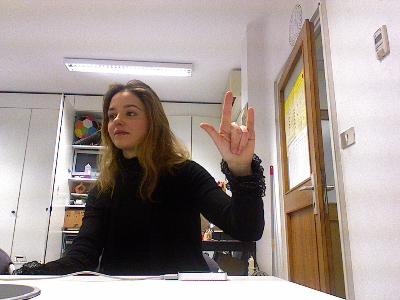我爱你: (198, 90, 255, 170)
